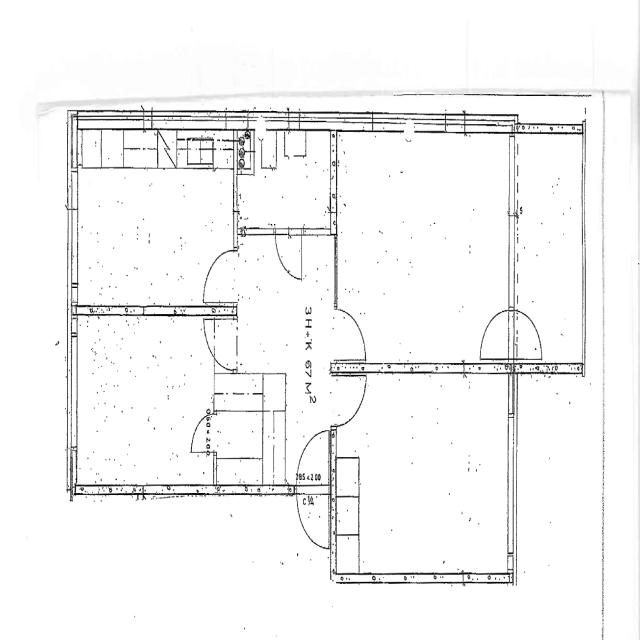door: (296, 429, 328, 494), (296, 484, 328, 548), (202, 318, 238, 370), (331, 375, 366, 426), (203, 250, 237, 302), (480, 310, 514, 359), (509, 310, 543, 359), (275, 228, 301, 278), (191, 413, 217, 452)
